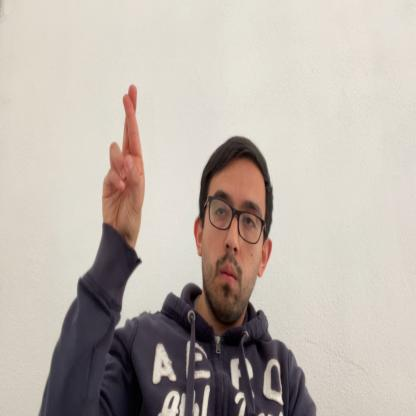R: (102, 82, 146, 248)
